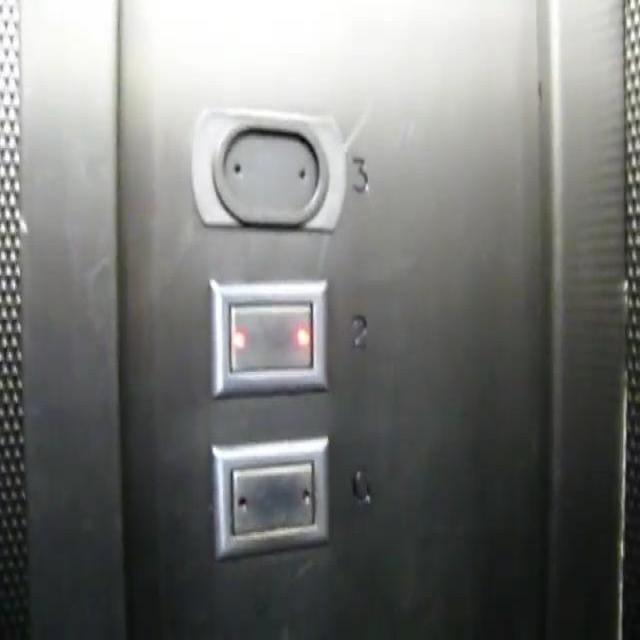empty: (184, 100, 349, 235), (207, 432, 332, 563), (202, 274, 331, 398)
